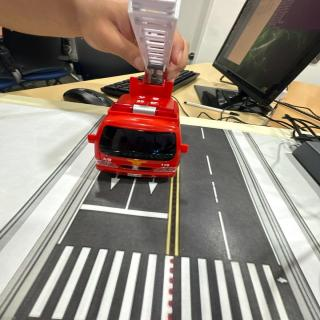Fire_truck: (88, 76, 188, 177)
